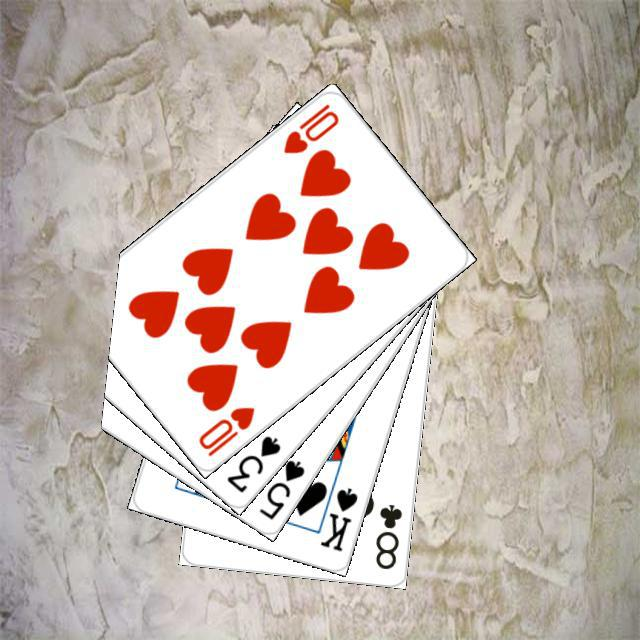10h: (278, 98, 341, 156), (193, 401, 257, 458)
3s: (222, 430, 283, 495)
5s: (254, 454, 307, 522)
8c: (370, 499, 404, 571)
Ks: (315, 482, 359, 553)
